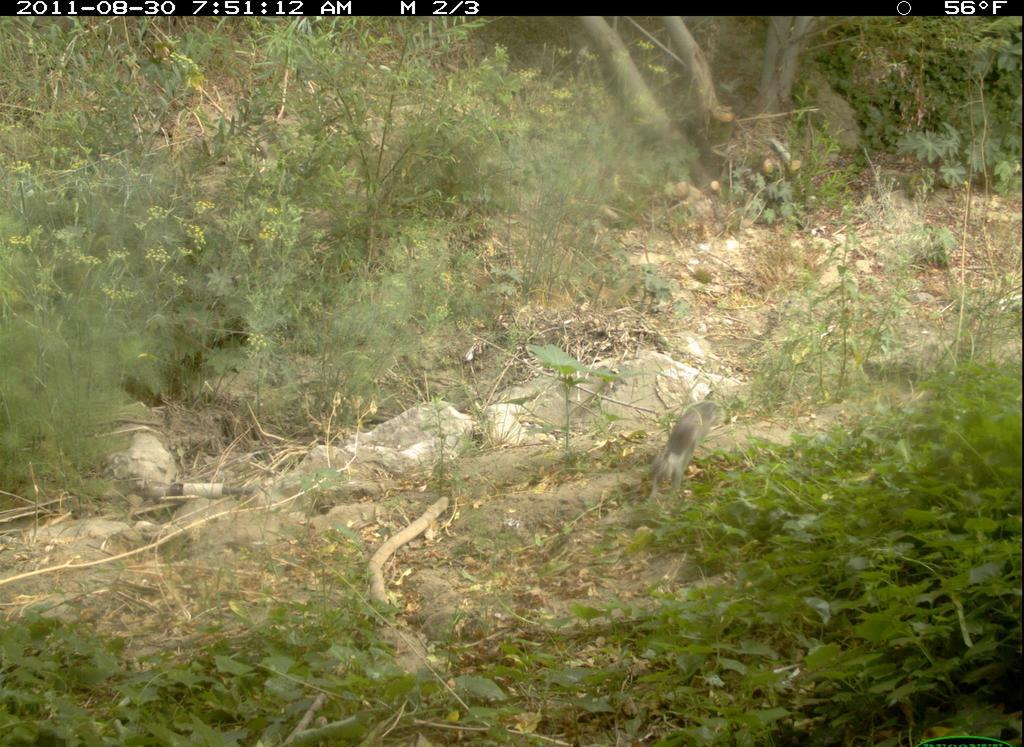squirrel: (612, 388, 745, 509)
